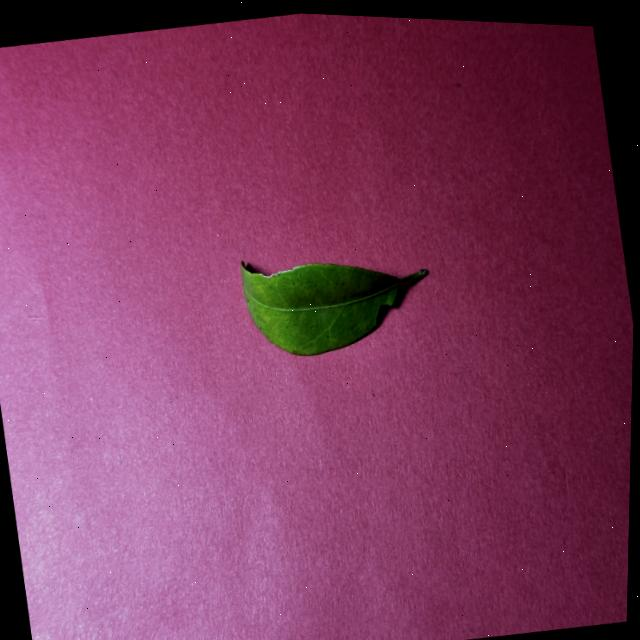greening: (241, 261, 428, 354)
